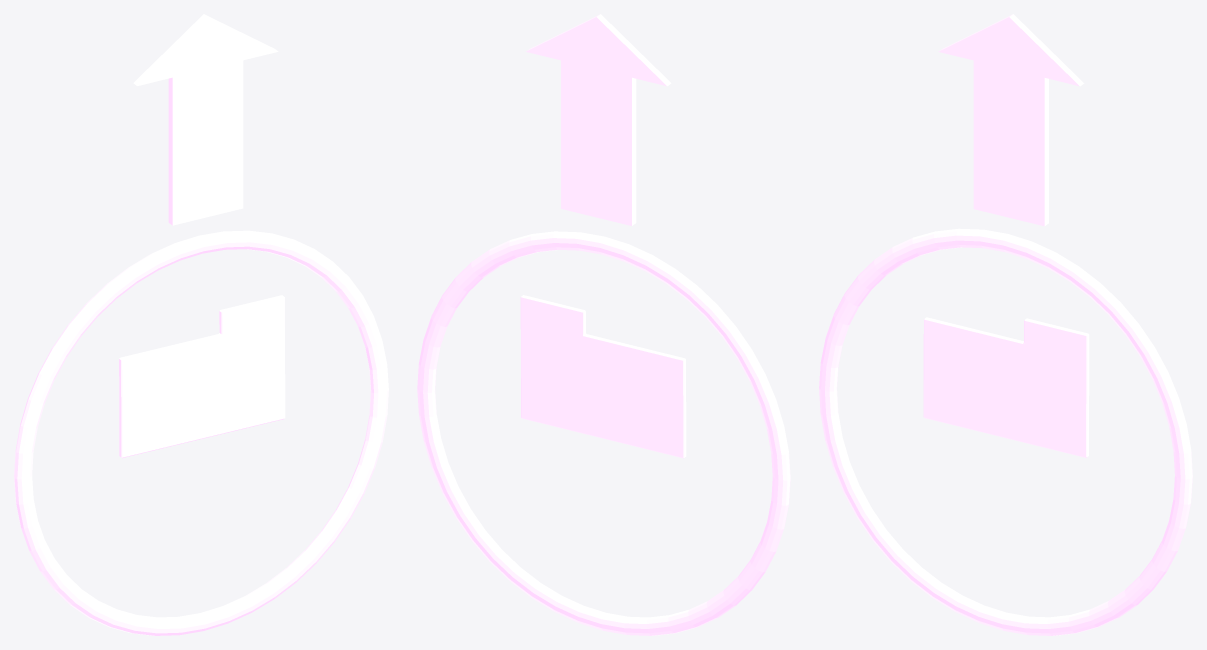
Rendered from Folder con freccia.fbx.
The picture shows the model from 3 angles, left to right: view 1: azimuth 30°, elevation 25°; view 2: azimuth 150°, elevation 25°; view 3: azimuth 330°, elevation 25°; orthographic projection.
Parts seen in each view (by area): view 1: Cube.002, Plane; view 2: Cube.002, Plane; view 3: Cube.002, Plane.
Boxes of the visible parts, left/top/right/bottom form: Cube.002: left=14, top=230, right=388, bottom=635; Plane: left=133, top=14, right=278, bottom=225; Cube.002: left=417, top=231, right=790, bottom=635; Plane: left=526, top=14, right=671, bottom=225; Cube.002: left=819, top=228, right=1192, bottom=635; Plane: left=938, top=14, right=1084, bottom=226.
Size of the model in its own units: 3.94 by 6.2 by 0.1509.
